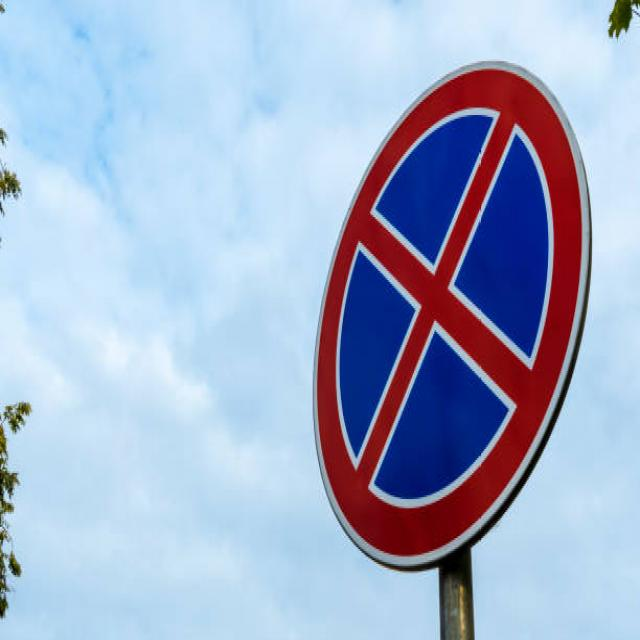no_parking: (305, 53, 595, 578)
